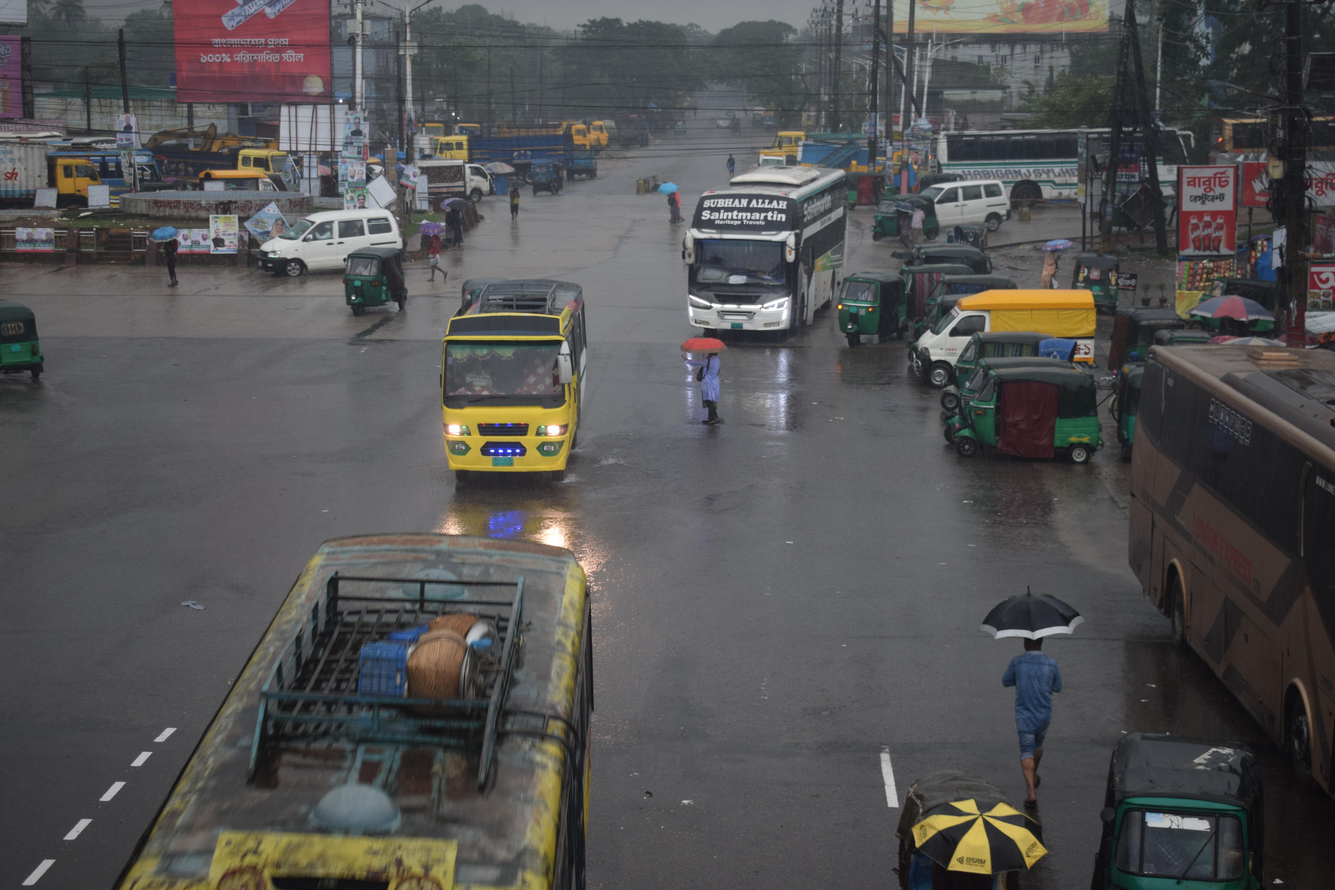Bus: (83, 503, 626, 890), (1103, 320, 1335, 805), (387, 224, 616, 538), (910, 86, 1218, 241), (659, 142, 869, 363)
Car: (896, 274, 1108, 388), (229, 178, 417, 286), (897, 178, 1036, 245), (385, 149, 491, 218)
Truck: (424, 122, 599, 190), (0, 132, 143, 210)
